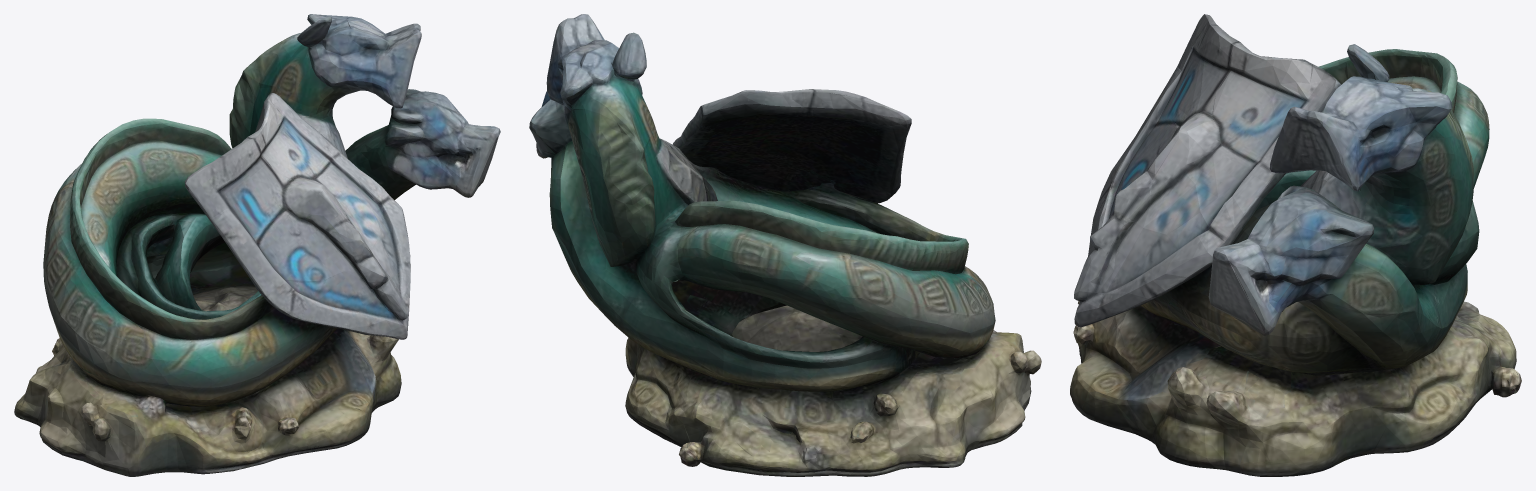
The model's file is brinegrave__bulwarkHound.glb.
3 renders of one model, left to right at view 1: azimuth 30°, elevation 25°; view 2: azimuth 150°, elevation 25°; view 3: azimuth 270°, elevation 25°, orthographic. The views are drawn at different scales.
Visible parts, largest first — view 1: world; view 2: world; view 3: world.
Part boxes in pixels (x1,y1,x2,y2): world: [14, 14, 500, 476]; world: [529, 14, 1041, 476]; world: [1070, 14, 1521, 476].
Bounding box in the file's own units: 0.9944 × 0.707 × 0.6907.
1 material, 1 textured.
